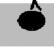not correct: (16, 0, 48, 31)
